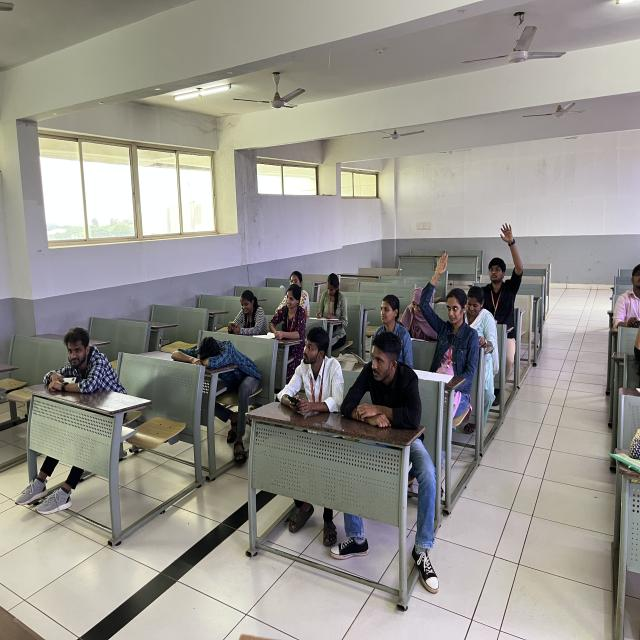Hand Rising: (416, 248, 476, 388), (480, 219, 530, 337)
Sleeping: (38, 323, 132, 409), (168, 329, 270, 400)
Using Phone: (278, 325, 349, 421), (224, 285, 269, 342)
Writing: (268, 282, 311, 350), (312, 270, 356, 334), (398, 282, 438, 348)
